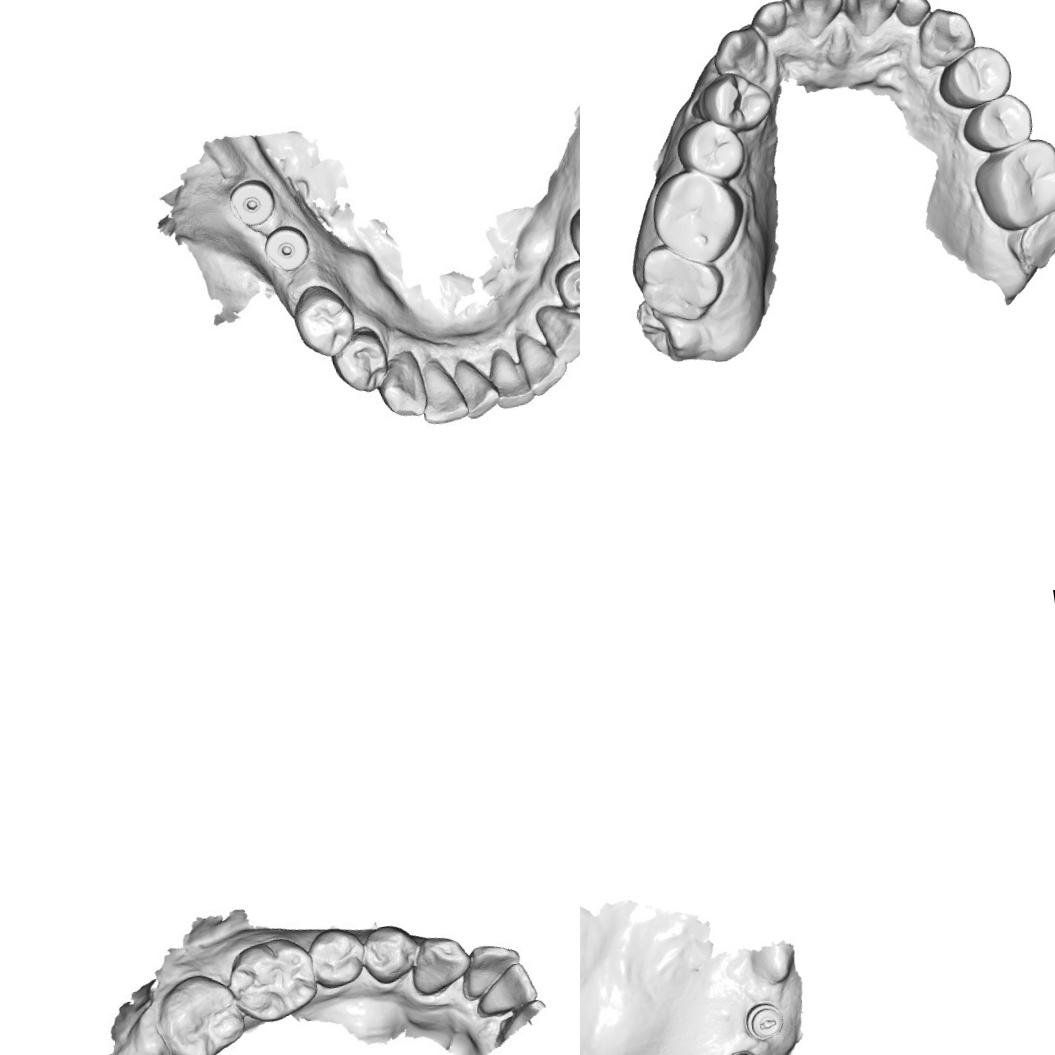canine: (911, 3, 979, 71), (371, 344, 430, 421), (708, 24, 772, 91), (408, 934, 472, 998), (533, 296, 580, 365)
implant: (224, 171, 280, 233), (258, 220, 310, 279)
implant_minus: (741, 998, 790, 1045), (722, 1045, 764, 1055)
incisor: (456, 938, 527, 1004), (476, 958, 542, 1022), (516, 330, 570, 395), (450, 355, 504, 420), (416, 356, 462, 424), (838, 0, 907, 40), (782, 0, 849, 41), (487, 346, 531, 407), (748, 0, 790, 38), (892, 0, 933, 28)
molar: (645, 162, 751, 271), (151, 966, 249, 1055), (968, 136, 1055, 236), (635, 240, 730, 330), (228, 936, 318, 1020)
premolar: (933, 41, 1016, 113), (691, 67, 775, 138), (672, 114, 748, 188), (958, 90, 1036, 156), (309, 924, 368, 992), (297, 289, 353, 359), (364, 918, 418, 980), (333, 328, 386, 390), (551, 255, 580, 324)
